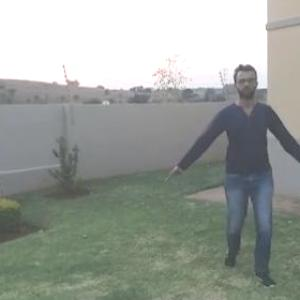land: (167, 63, 299, 269)
